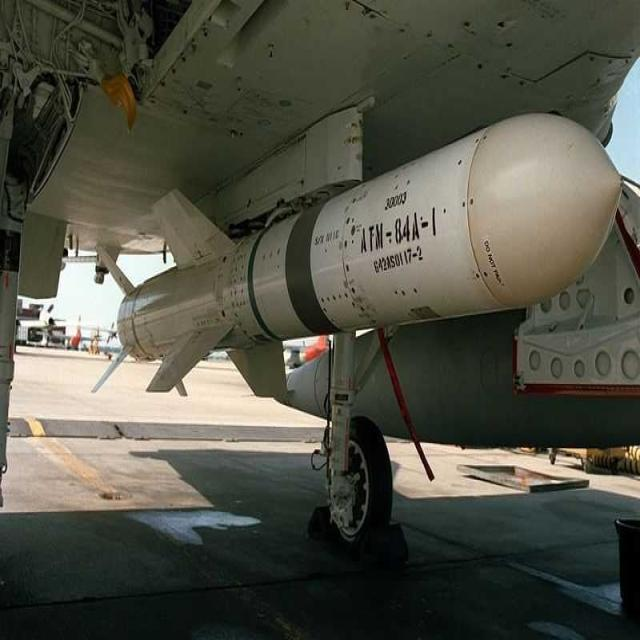missile: (82, 103, 624, 407)
